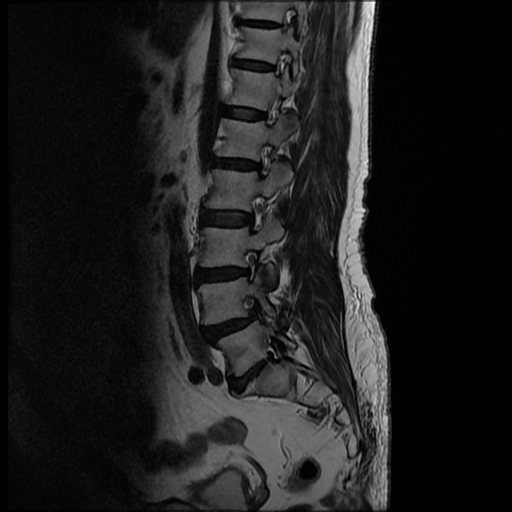RFS0: (239, 190, 270, 238), (250, 136, 279, 187), (234, 242, 267, 286)
